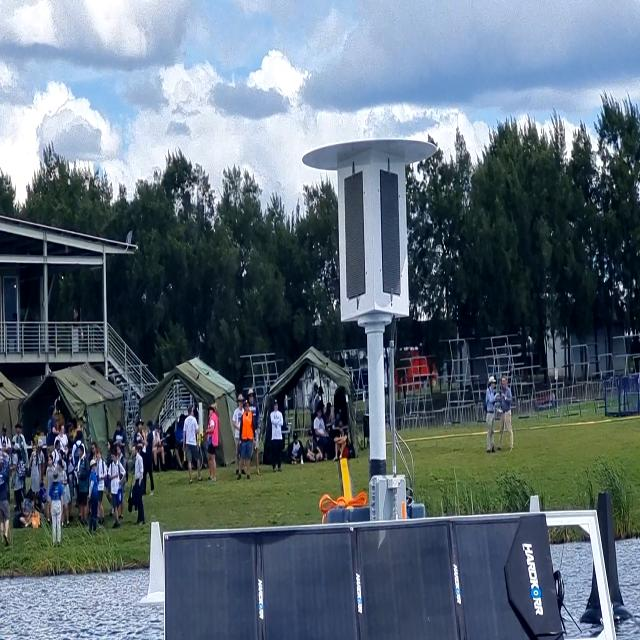led: (373, 161, 405, 308), (340, 163, 370, 309)
